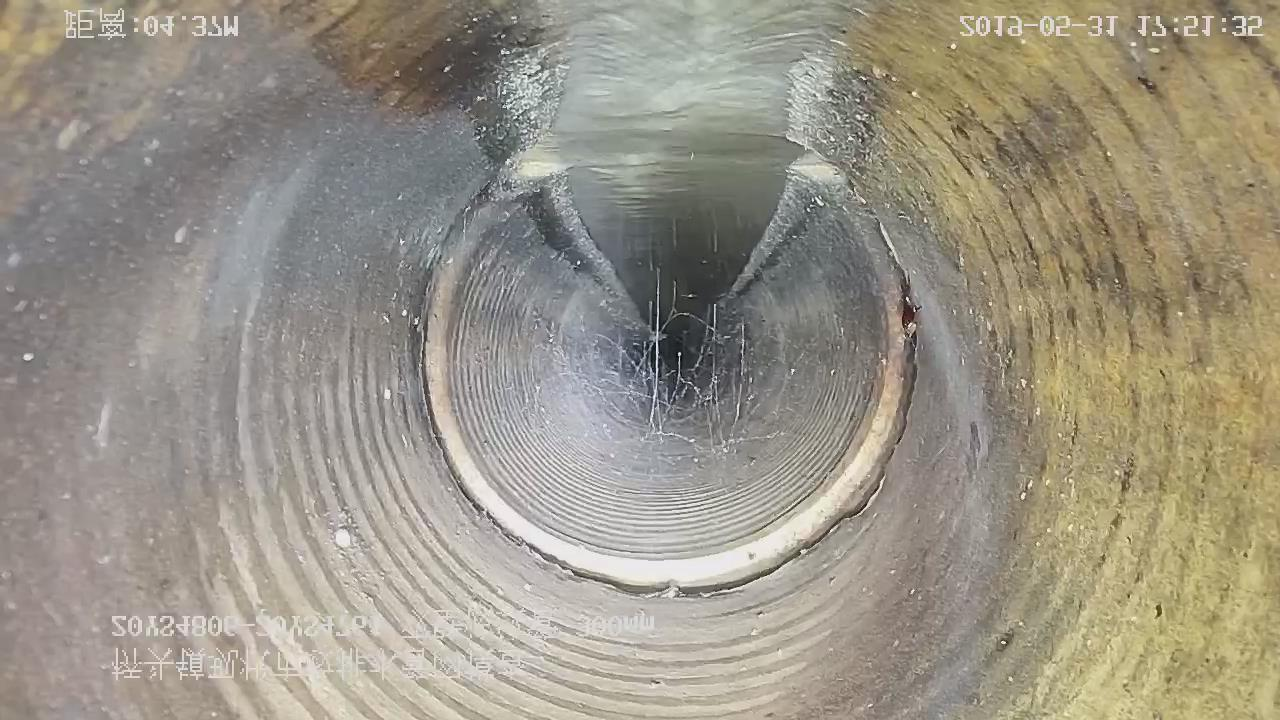CKTJ: (404, 149, 926, 606)
SG: (535, 303, 798, 469)
